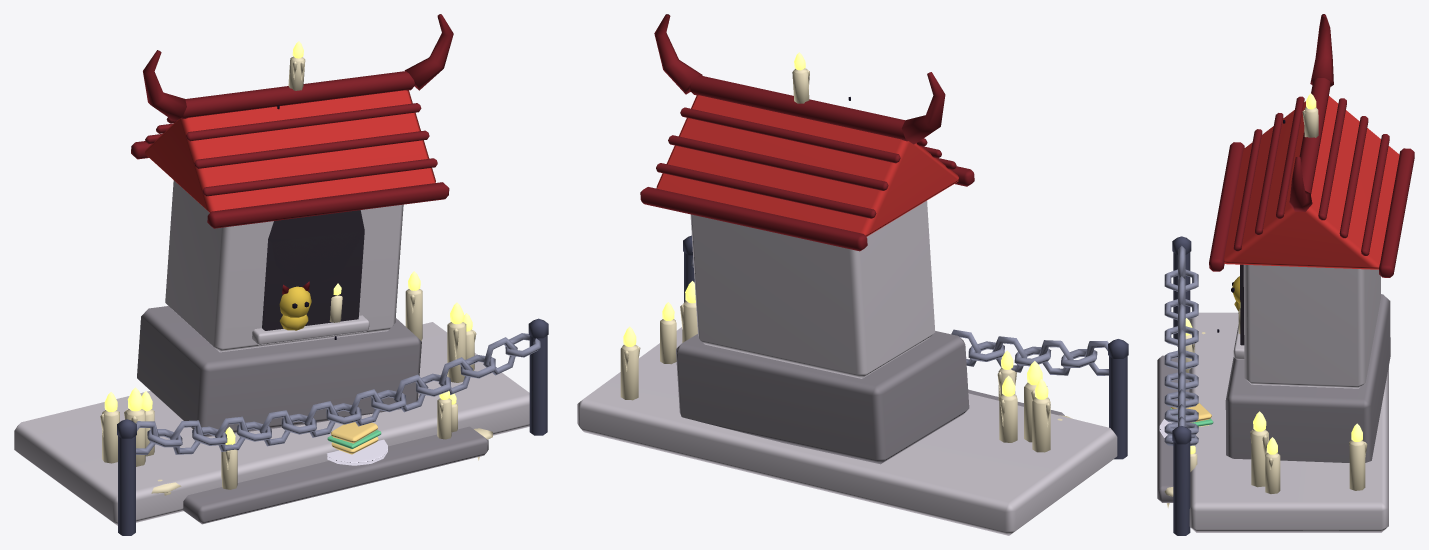
File: shrine_candles.glb
The picture shows the model from 3 angles, left to right: view 1: azimuth 30°, elevation 25°; view 2: azimuth 150°, elevation 25°; view 3: azimuth 270°, elevation 25°; orthographic projection. The views are drawn at different scales.
Visible parts, largest first — view 1: House, Base, Front, Candles; view 2: House, Base, Candles, Front; view 3: House, Base, Front, Candles.
Boxes of the visible parts, bbox=[...] form: House: bbox=[131, 14, 453, 436]; Base: bbox=[14, 322, 529, 525]; Front: bbox=[117, 318, 548, 535]; Candles: bbox=[100, 271, 492, 495]; House: bbox=[640, 14, 974, 464]; Base: bbox=[577, 327, 1117, 535]; Candles: bbox=[620, 281, 1072, 452]; Front: bbox=[683, 235, 1128, 459]; House: bbox=[1209, 14, 1414, 462]; Base: bbox=[1157, 312, 1388, 532]; Front: bbox=[1159, 236, 1213, 535]; Candles: bbox=[1164, 318, 1367, 508].
Size of the model in its own units: 1.91 by 1.74 by 1.06.
